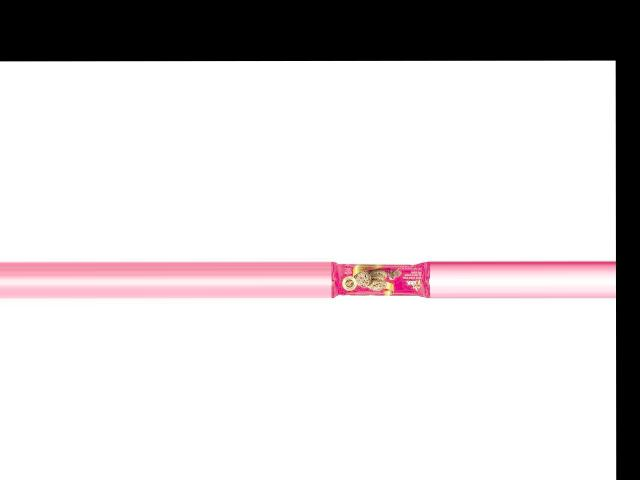chocolate: (333, 258, 431, 296)
